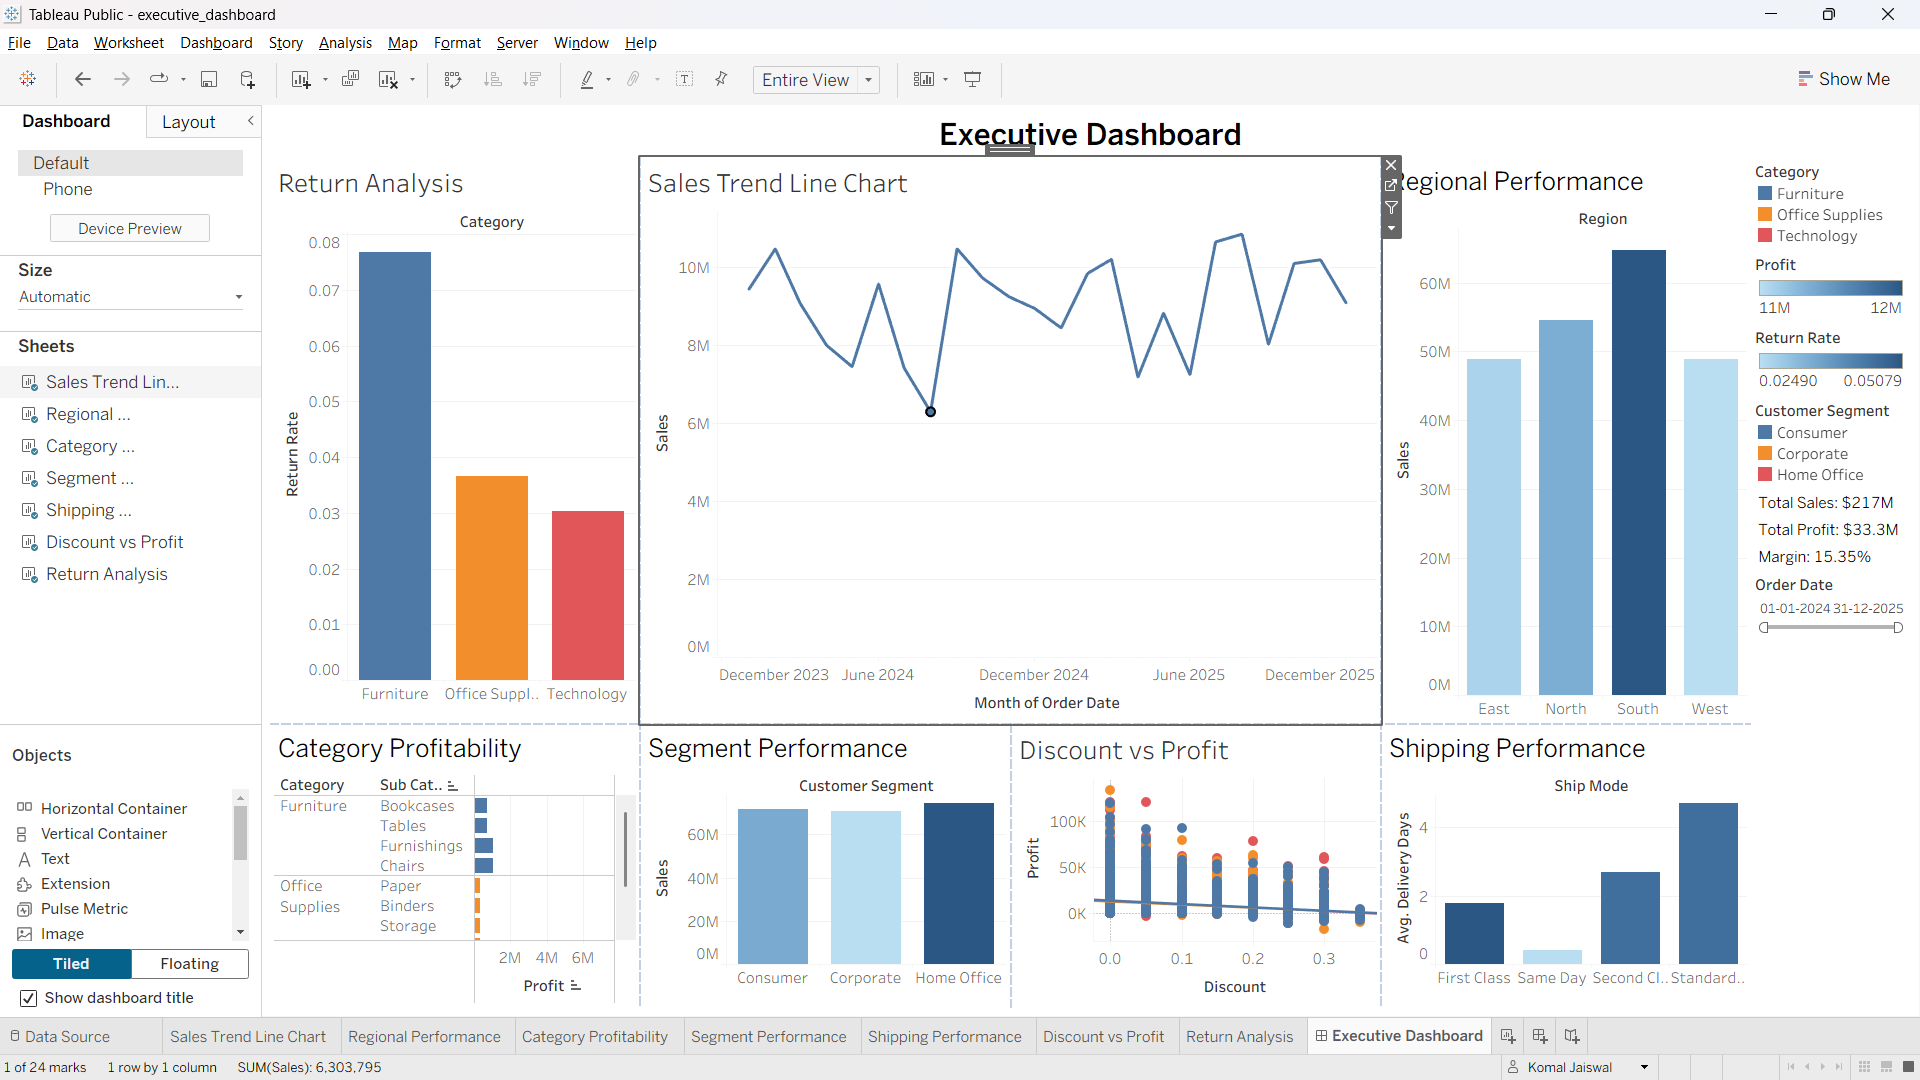

What the dashboard file says about the page in this screenshot:
{"tool":"tableau","page":{"name":"Executive Dashboard","canvas":[1000,1000],"units":"permille","ordinal":0},"visuals":[{"type":"title","box":[4.8,8.8,990.3,48.3]},{"type":"worksheet","title":"Return Analysis","mark":"Automatic","rows":["Calculation_1692440947376131"],"cols":["category"],"box":[4.8,57.1,223.4,622.7]},{"type":"worksheet","title":"Sales Trend Line Chart","mark":"Automatic","rows":["sales"],"cols":["order_date"],"box":[228.3,57.1,446.9,622.7]},{"type":"worksheet","title":"Regional Bar Chart","mark":"Automatic","rows":["sales"],"cols":["region"],"box":[675.2,57.1,223.5,622.7]},{"type":"legend","title":"Category Profitability","param":"[federated.1cgq1v41l2yfxk1ax2un60ximlwh].[none:category:nk]","box":[898.6,57.1,96.6,102.1]},{"type":"legend","title":"Segment Performance","param":"[federated.1cgq1v41l2yfxk1ax2un60ximlwh].[sum:profit:qk]","box":[898.6,159.2,96.6,80.1]},{"type":"legend","title":"Shipping Performance","param":"[federated.1cgq1v41l2yfxk1ax2un60ximlwh].[usr:Calculation_1692440947376131:qk]","box":[898.6,239.3,96.6,80.1]},{"type":"legend","title":"Discount vs Profit","param":"[federated.1cgq1v41l2yfxk1ax2un60ximlwh].[none:customer_segment:nk]","box":[898.6,319.4,96.6,102.1]},{"type":"text","box":[898.6,421.5,96.6,29.6]},{"type":"text","box":[898.6,451.1,96.6,29.6]},{"type":"text","box":[898.6,480.8,96.6,29.6]},{"type":"filter","title":"Sales Trend Line Chart","param":"[federated.1cgq1v41l2yfxk1ax2un60ximlwh].[none:order_date:qk]","box":[898.6,510.4,96.6,80.1]},{"type":"worksheet","title":"Category Profitability","mark":"Automatic","rows":["category","sub_category"],"cols":["profit"],"box":[4.8,679.8,223.4,311.4]},{"type":"worksheet","title":"Segment Performance","mark":"Automatic","rows":["sales"],"cols":["customer_segment"],"box":[228.3,679.8,223.5,311.4]},{"type":"worksheet","title":"Discount vs Profit","mark":"Circle","rows":["profit"],"cols":["discount"],"box":[451.7,679.8,223.4,311.4]},{"type":"worksheet","title":"Shipping Performance","mark":"Automatic","rows":["delivery_days"],"cols":["ship_mode"],"box":[675.2,679.8,223.5,311.4]}]}

Visuals, with their boxes on the dashboard's canvas, which has no fixed pixel size, in thousandths of its width and height (x1, y1, x2, y2). These are canvas units, not pixel positions in the 1920x1080 screenshot, which may show the page scaled, cropped or inside an application window:
title: crop(5, 9, 995, 57)
"Return Analysis" worksheet: crop(5, 57, 228, 680)
"Sales Trend Line Chart" worksheet: crop(228, 57, 675, 680)
"Regional Bar Chart" worksheet: crop(675, 57, 899, 680)
"Category Profitability" legend: crop(899, 57, 995, 159)
"Segment Performance" legend: crop(899, 159, 995, 239)
"Shipping Performance" legend: crop(899, 239, 995, 319)
"Discount vs Profit" legend: crop(899, 319, 995, 422)
text: crop(899, 422, 995, 451)
text: crop(899, 451, 995, 481)
text: crop(899, 481, 995, 510)
"Sales Trend Line Chart" filter: crop(899, 510, 995, 590)
"Category Profitability" worksheet: crop(5, 680, 228, 991)
"Segment Performance" worksheet: crop(228, 680, 452, 991)
"Discount vs Profit" worksheet (Circle marks): crop(452, 680, 675, 991)
"Shipping Performance" worksheet: crop(675, 680, 899, 991)
